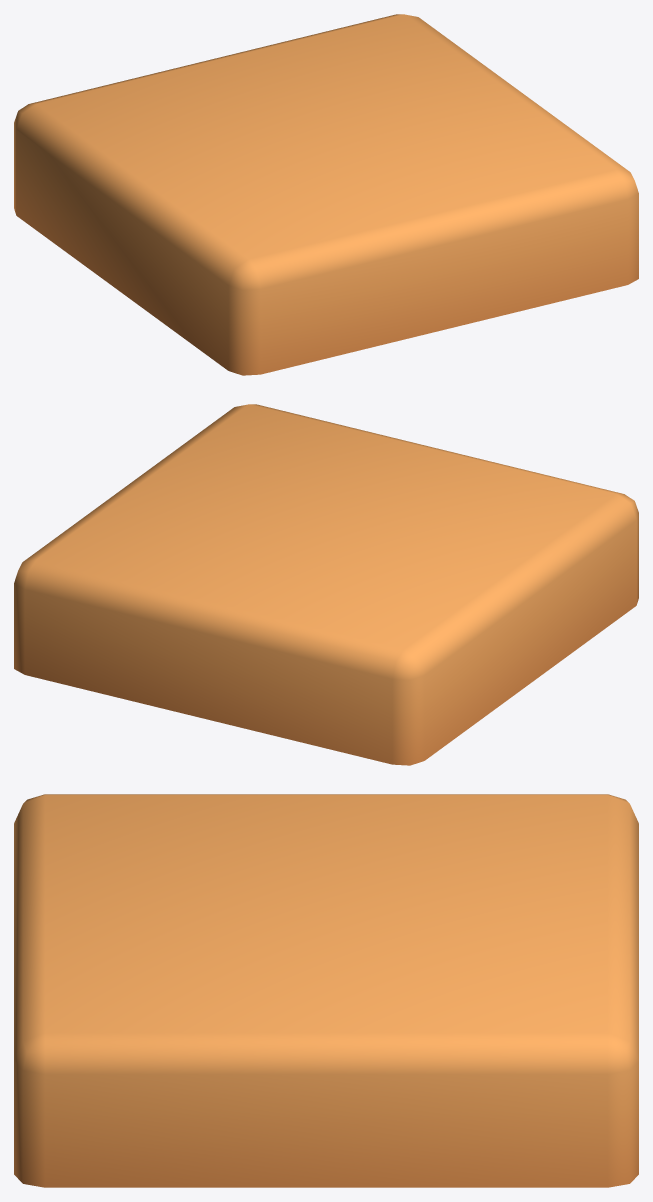
Rendered from 3D_Tile_Top_02.glb.
3 views of the same model, one above another, from view 1: azimuth 30°, elevation 25°; view 2: azimuth 150°, elevation 25°; view 3: azimuth 270°, elevation 25° (orthographic). The views are drawn at different scales.
Parts seen in each view (by area): view 1: 3D_Tile_Top_02; view 2: 3D_Tile_Top_02; view 3: 3D_Tile_Top_02.
Boxes of the visible parts, box(x1,y1,x2,y2) form: 3D_Tile_Top_02: box(14, 14, 638, 375); 3D_Tile_Top_02: box(14, 404, 638, 765); 3D_Tile_Top_02: box(14, 794, 638, 1187).
Bounding box in the file's own units: 2 × 0.5 × 2.
Materials: 1 (1 with a texture image).
